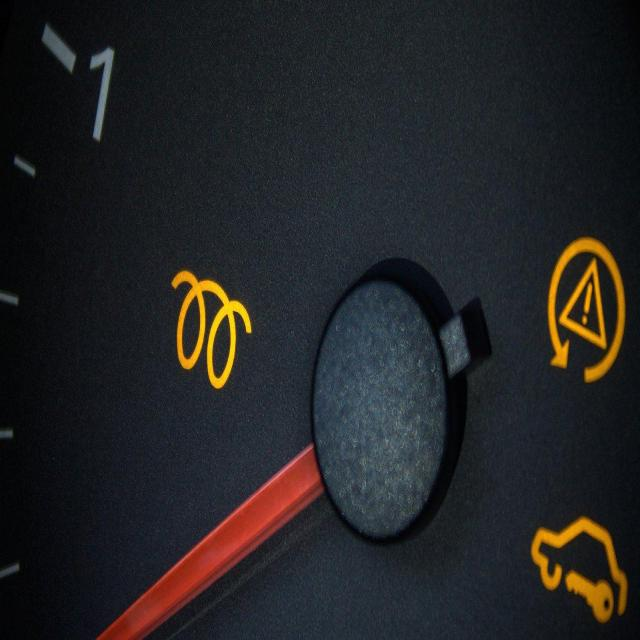kontrolka: (162, 241, 260, 412)
